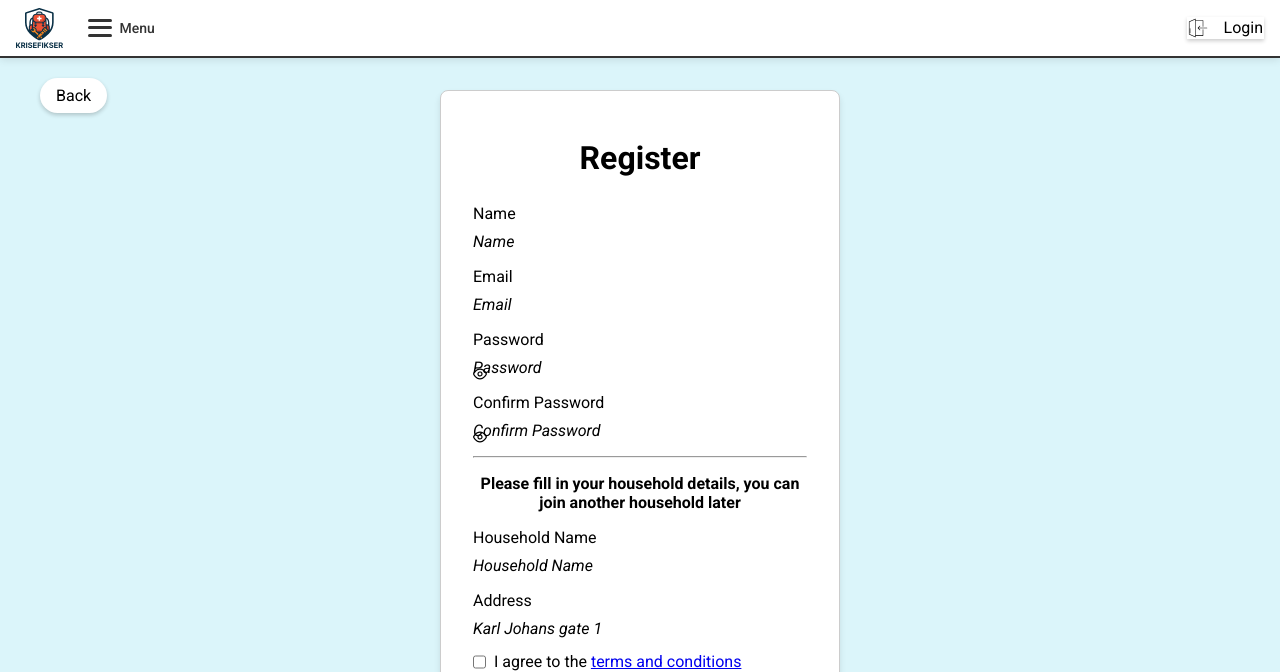
Registration Form › shows validation error for invalid email
The image size is (1280, 672).
Step 1. Type "not-an-email" into the field with id "email" → coordinates (640, 304), box [473, 294, 807, 314]
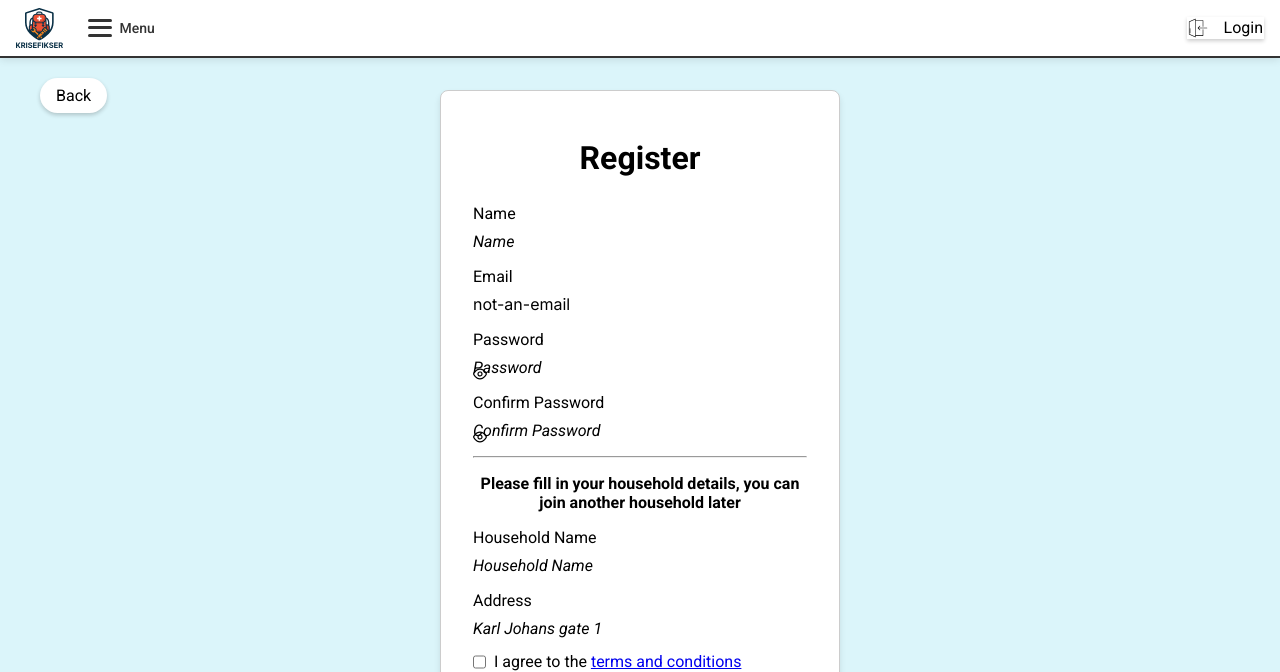
Step 2. Leave the field with id "email", box [473, 294, 807, 314]
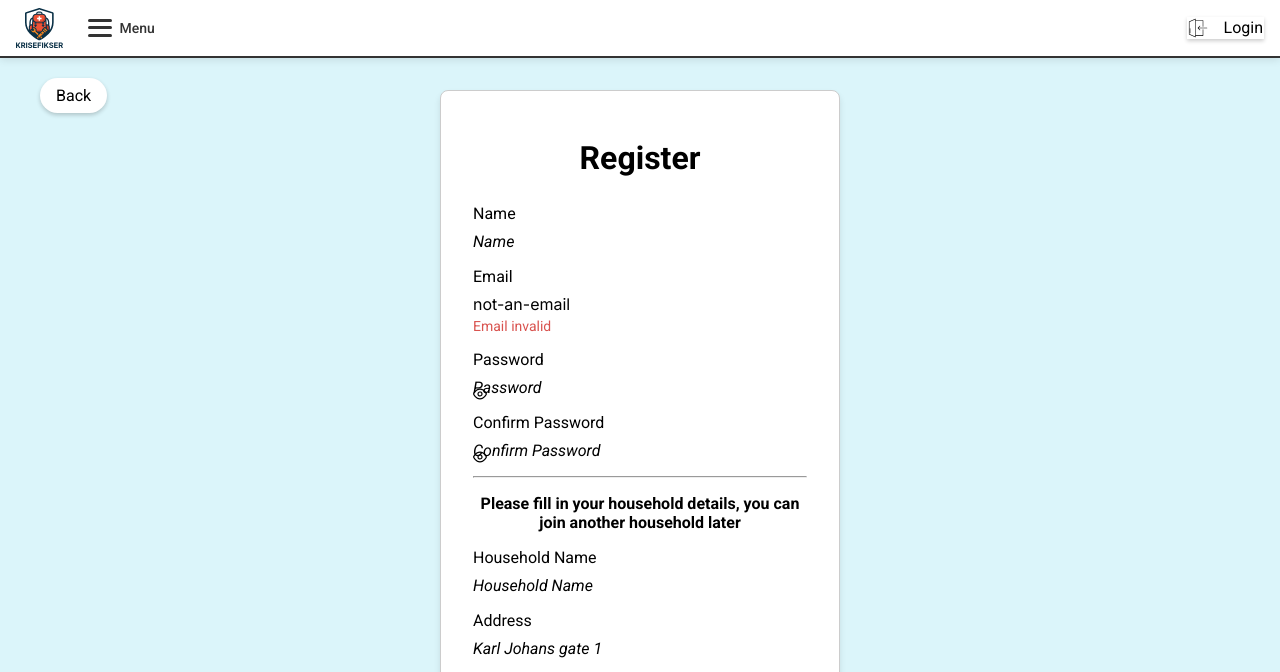
Check: the text "Email invalid" is shown, box [473, 318, 551, 334]
